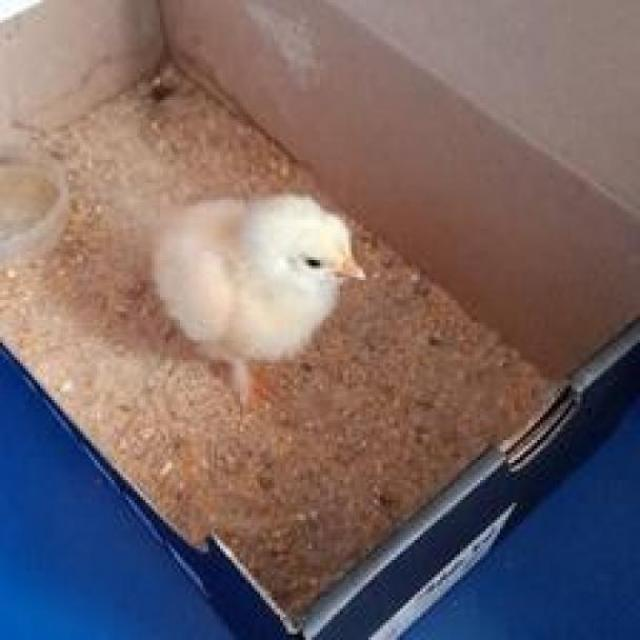Chicken: (146, 177, 379, 402)
